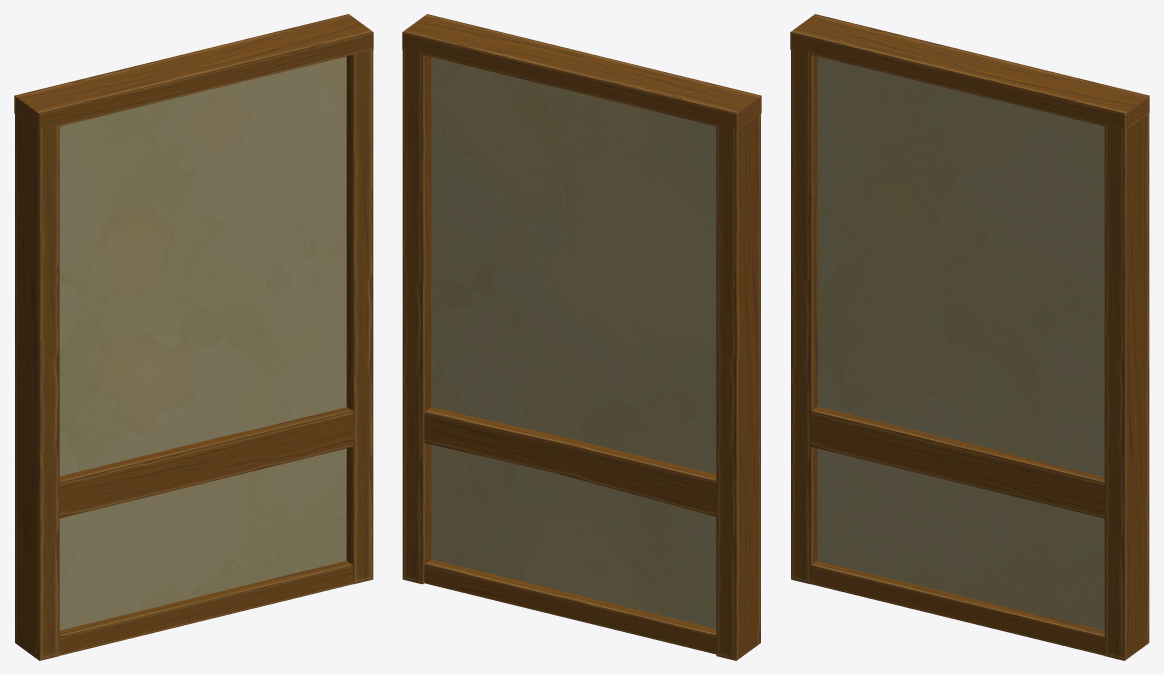
File: SM_House_Wall_Interior_2_5x4_01.fbx
3 renders of one model, left to right at view 1: azimuth 30°, elevation 25°; view 2: azimuth 150°, elevation 25°; view 3: azimuth 330°, elevation 25°, orthographic.
Visible parts, largest first — view 1: SM_House_Wall_Interior_2_5x4_01; view 2: SM_House_Wall_Interior_2_5x4_01; view 3: SM_House_Wall_Interior_2_5x4_01.
Part boxes in pixels (<box>): SM_House_Wall_Interior_2_5x4_01: <box>14,14,373,660</box>; SM_House_Wall_Interior_2_5x4_01: <box>402,14,761,660</box>; SM_House_Wall_Interior_2_5x4_01: <box>790,14,1149,660</box>.
Size of the model in its own units: 2.5 by 3.91 by 0.3207.
